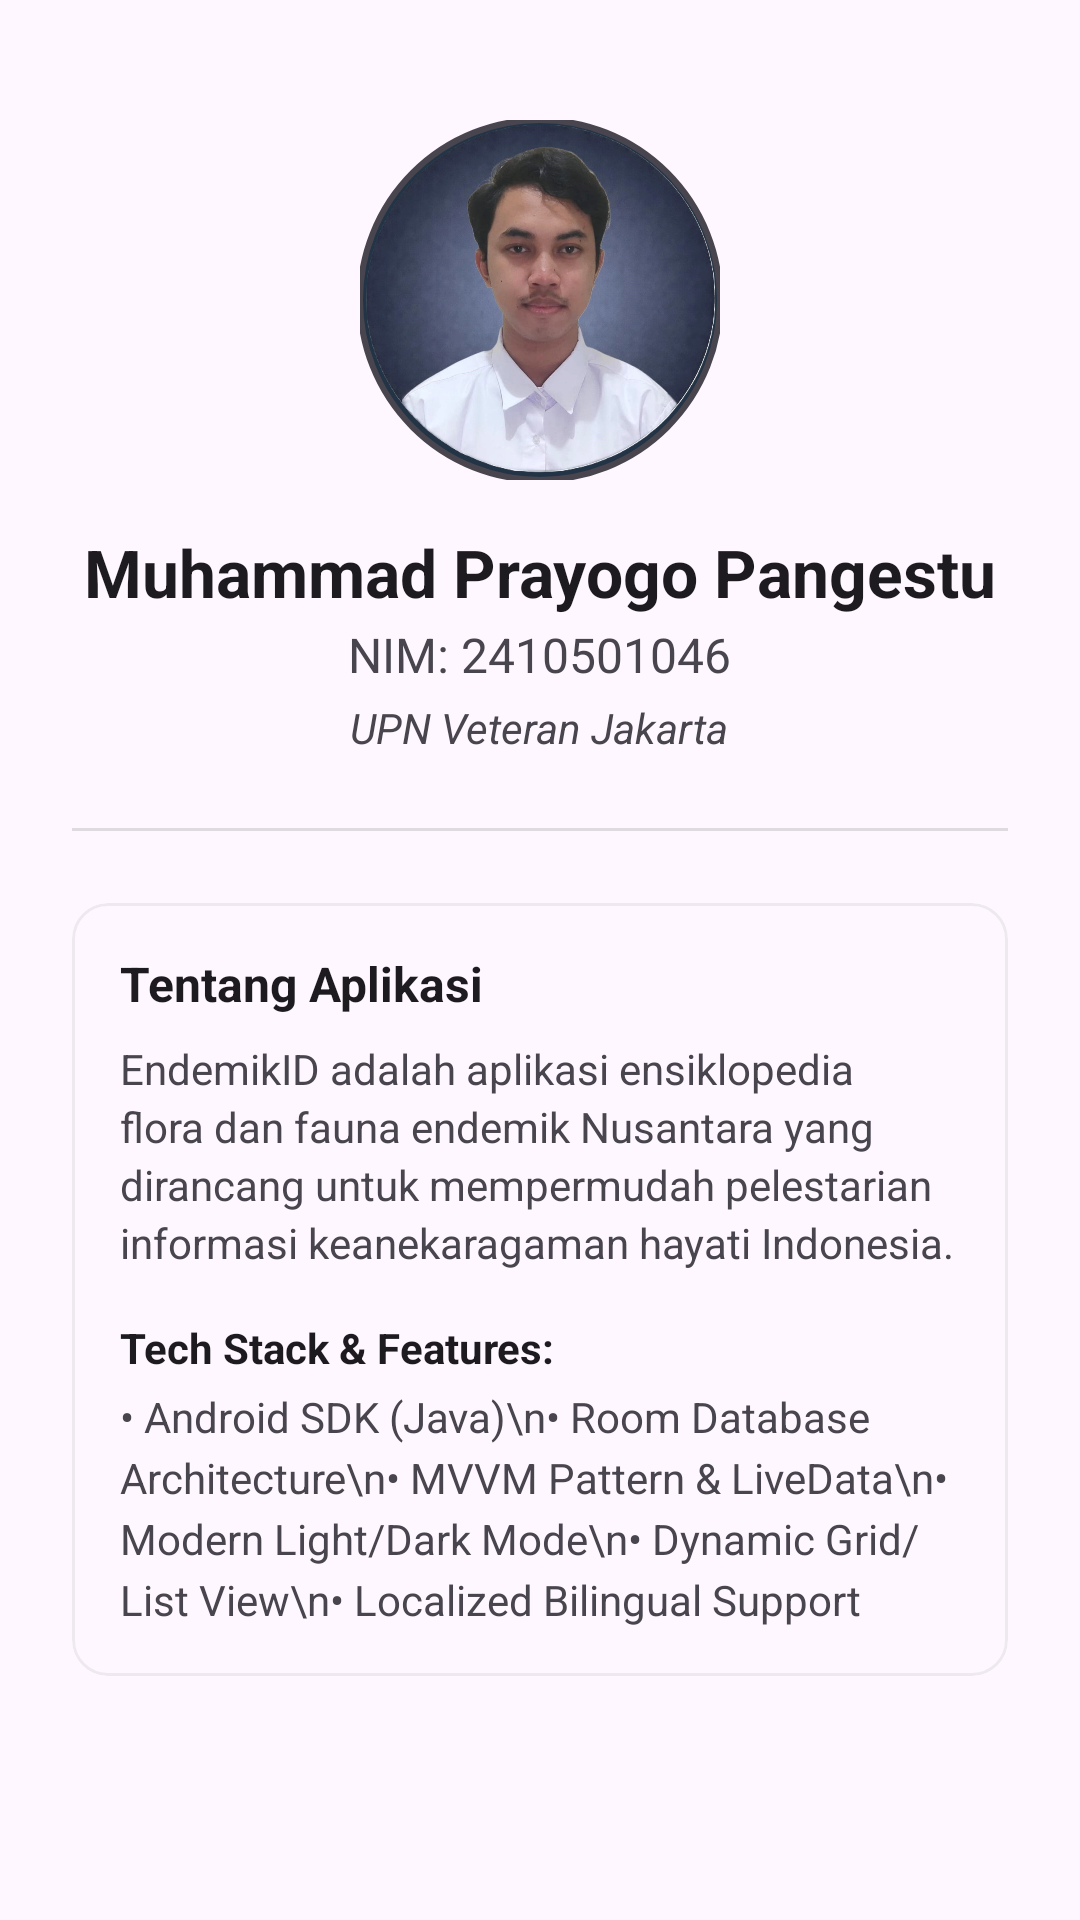

Screen size 1080*1920. Icon name, then its center in pixels as [x,y]:
foto profil: [540,300]
